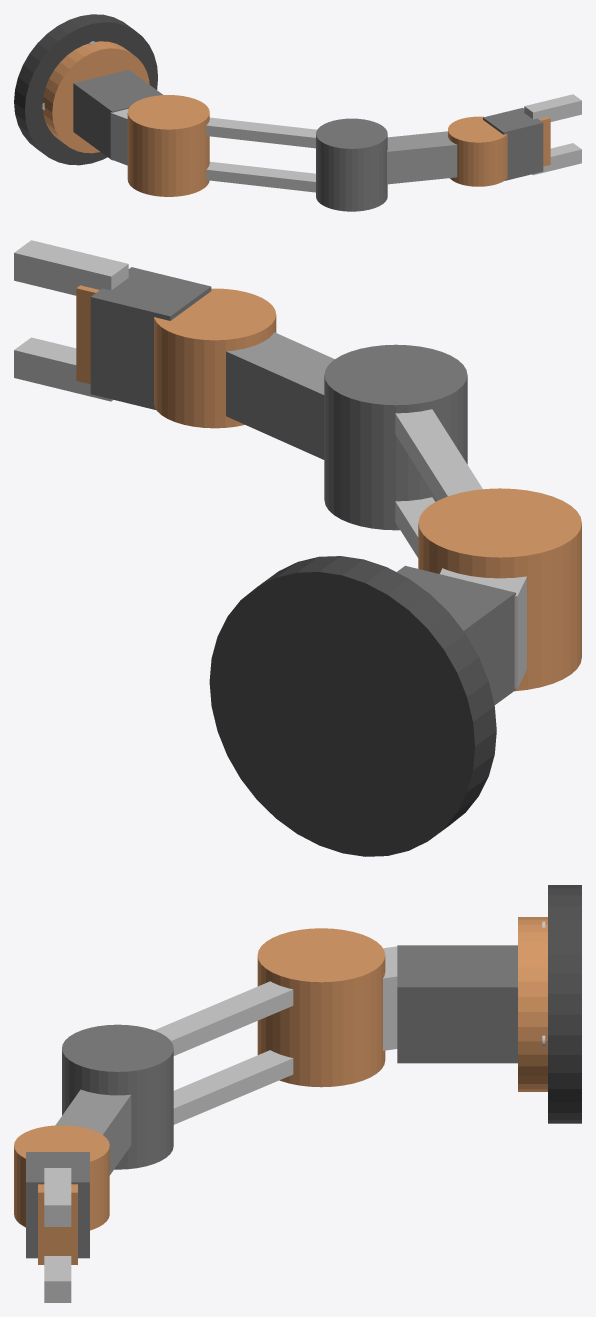
File: robot-arm-demo.glb
3 views of the same model, one above another, from view 1: azimuth 30°, elevation 25°; view 2: azimuth 150°, elevation 25°; view 3: azimuth 270°, elevation 25° (orthographic). The views are drawn at different scales.
Parts seen in each view (by area): view 1: shoulder_joint, base_foot, elbow_joint, rotating_plate, pedestal, wrist, forearm, gripper_mount, upper_link_right, upper_link_left, finger_right, shoulder_support (+2 smaller); view 2: base_foot, elbow_joint, shoulder_joint, wrist, gripper_mount, forearm, pedestal, finger_right, upper_link_right, finger_left, shoulder_support, palm (+1 smaller); view 3: shoulder_joint, pedestal, elbow_joint, base_foot, rotating_plate, wrist, upper_link_right, upper_link_left, gripper_mount, forearm, palm, finger_right (+2 smaller).
Part boxes in pixels (<box>): shoulder_joint: <box>127,95,209,196</box>; base_foot: <box>14,14,157,165</box>; elbow_joint: <box>316,118,387,211</box>; rotating_plate: <box>43,41,149,153</box>; pedestal: <box>73,69,162,160</box>; wrist: <box>448,116,507,186</box>; forearm: <box>387,131,457,184</box>; gripper_mount: <box>483,108,543,180</box>; upper_link_right: <box>206,117,316,148</box>; upper_link_left: <box>206,161,315,192</box>; finger_right: <box>524,94,581,121</box>; shoulder_support: <box>110,109,128,165</box>; base_foot: <box>209,556,496,856</box>; elbow_joint: <box>324,344,467,530</box>; shoulder_joint: <box>418,488,581,691</box>; wrist: <box>154,288,276,428</box>; gripper_mount: <box>90,267,211,410</box>; forearm: <box>226,332,334,459</box>; pedestal: <box>396,565,515,704</box>; finger_right: <box>14,240,128,295</box>; upper_link_right: <box>395,409,482,500</box>; finger_left: <box>14,337,113,401</box>; shoulder_support: <box>440,568,526,688</box>; palm: <box>76,285,99,384</box>; shoulder_joint: <box>257,928,385,1087</box>; pedestal: <box>397,945,517,1063</box>; elbow_joint: <box>62,1024,173,1169</box>; base_foot: <box>548,885,581,1123</box>; rotating_plate: <box>518,917,547,1091</box>; wrist: <box>14,1125,109,1230</box>; upper_link_right: <box>154,981,293,1055</box>; upper_link_left: <box>173,1050,293,1124</box>; gripper_mount: <box>26,1152,89,1258</box>; forearm: <box>56,1089,131,1175</box>; palm: <box>38,1184,77,1264</box>; finger_right: <box>44,1168,71,1226</box>.
Size of the model in its own units: 1.78 by 0.6 by 1.42.
